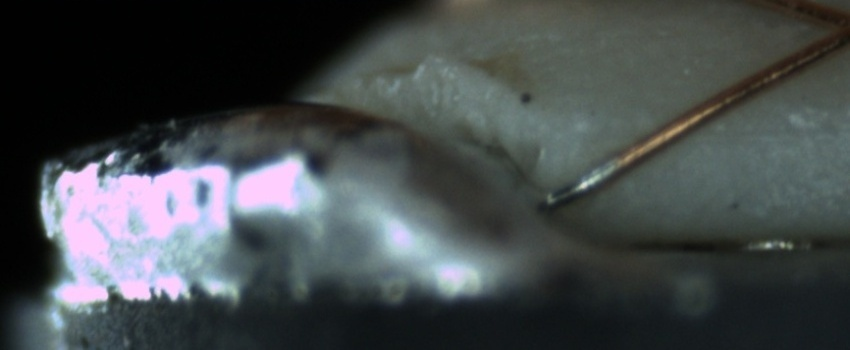CL: (810, 5, 850, 52)
DL: (679, 101, 850, 163)
TS: (538, 154, 622, 210)
TTCW: (543, 137, 660, 210)
